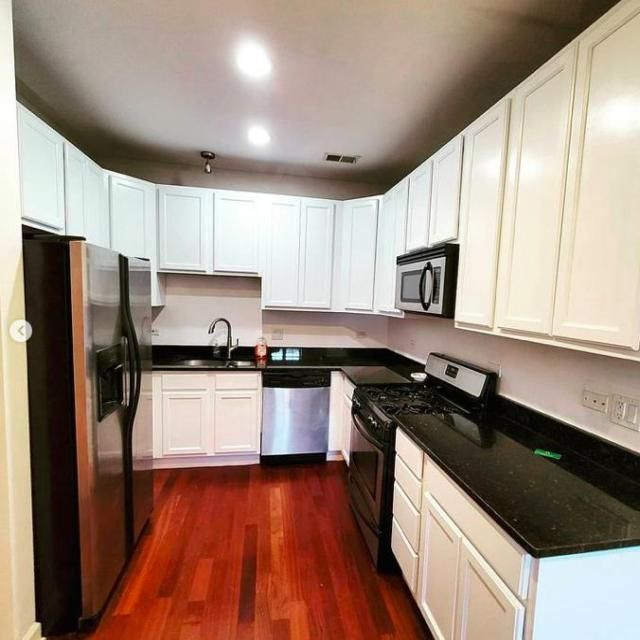dishwasher: (260, 368, 328, 453)
